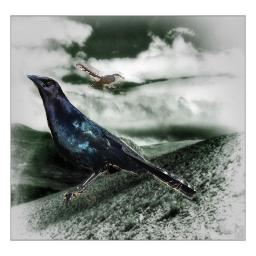Crow: (26, 75, 197, 207)
Cuckoo: (76, 62, 125, 93)
